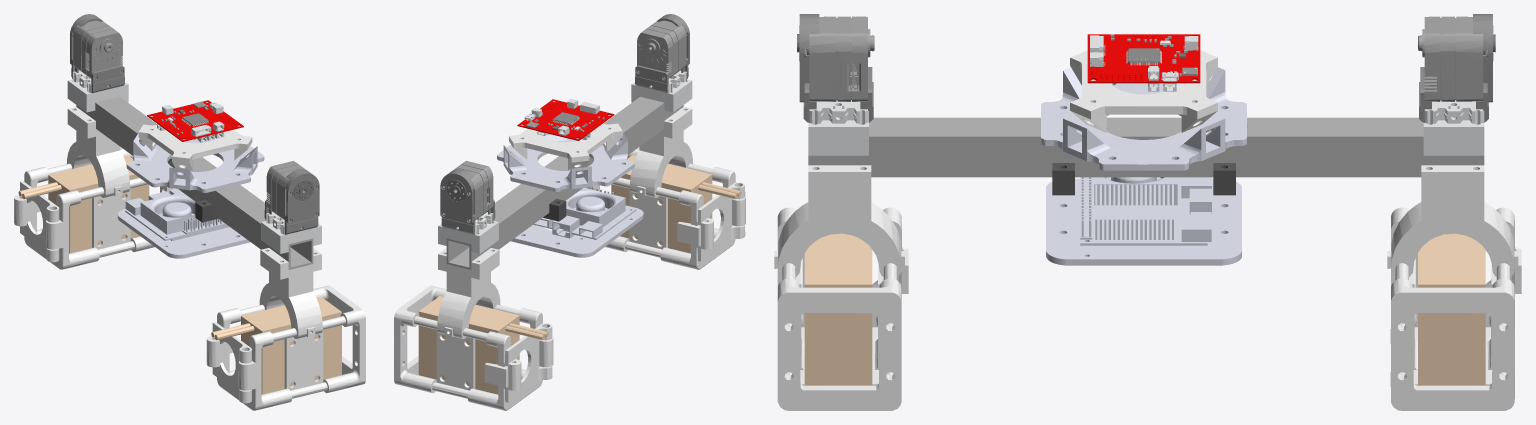
The model's file is BaseLinkNew.dae.
The picture shows the model from 3 angles, left to right: view 1: azimuth 30°, elevation 25°; view 2: azimuth 150°, elevation 25°; view 3: azimuth 270°, elevation 25°; orthographic projection. The views are drawn at different scales.
Visible parts, largest first — view 1: Shape_IndexedFaceSet; view 2: Shape_IndexedFaceSet; view 3: Shape_IndexedFaceSet.
Part boxes in pixels (x1,y1,x2,y2): Shape_IndexedFaceSet: (14, 14, 365, 410); Shape_IndexedFaceSet: (394, 14, 745, 410); Shape_IndexedFaceSet: (774, 14, 1521, 410).
Bounding box in the file's own units: 0.1082 × 0.3315 × 0.1721.
